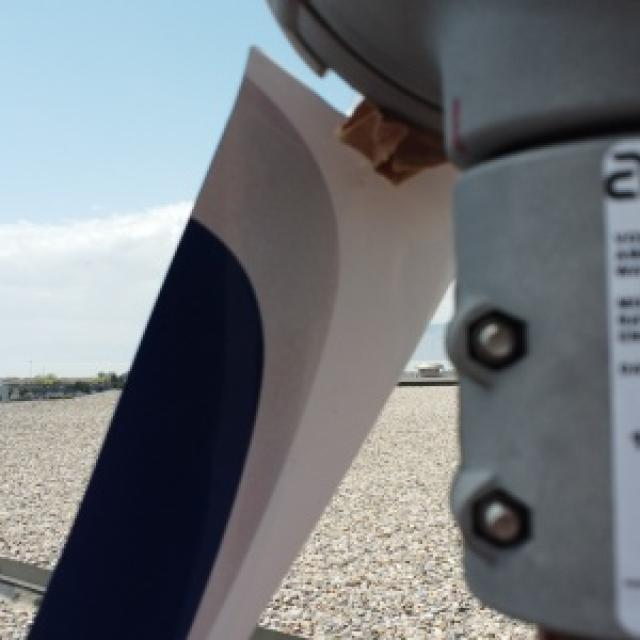healthy: (0, 205, 183, 369)
